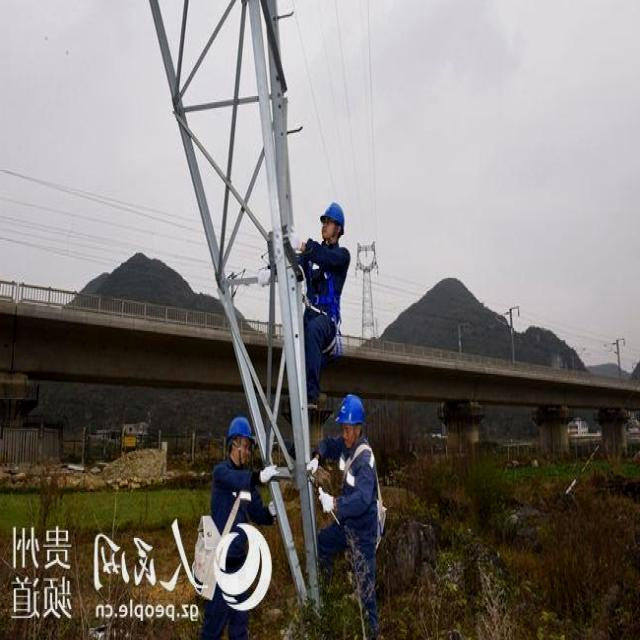face_nomask: (341, 426, 359, 452), (317, 218, 339, 236), (236, 434, 250, 462)
hand_glove: (316, 486, 335, 522), (260, 457, 279, 489), (288, 225, 304, 257), (307, 450, 320, 480)
head_helmet: (339, 396, 361, 424), (320, 202, 345, 225), (227, 418, 248, 436)
person: (290, 200, 350, 372), (320, 394, 374, 584), (211, 415, 253, 528)
vest: (337, 444, 375, 508)
